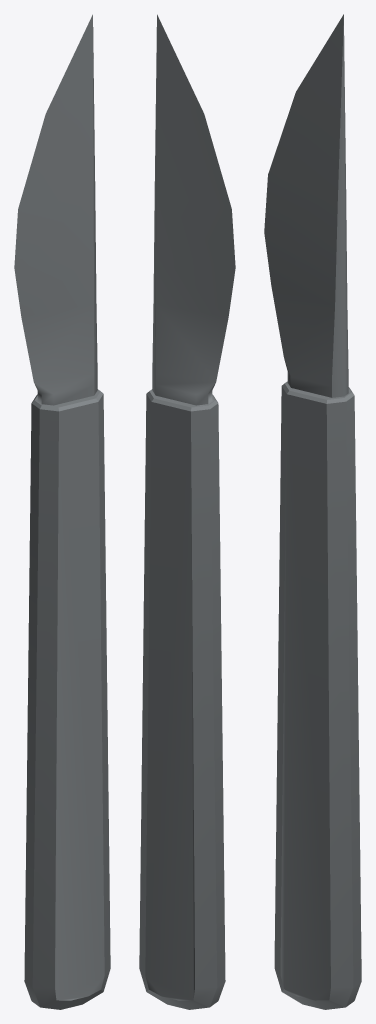
The model's file is PRP_NURSE_TOOL_00.FBX.
3 views of the same model, side by side, from view 1: azimuth 30°, elevation 25°; view 2: azimuth 150°, elevation 25°; view 3: azimuth 330°, elevation 25° (orthographic).
Parts seen in each view (by area): view 1: PRP_NURSE_TOOL_00; view 2: PRP_NURSE_TOOL_00; view 3: PRP_NURSE_TOOL_00.
Boxes of the visible parts, x1,y1,x2,y2 form: PRP_NURSE_TOOL_00: [14, 14, 110, 1009]; PRP_NURSE_TOOL_00: [139, 14, 235, 1009]; PRP_NURSE_TOOL_00: [264, 14, 361, 1009].
Size of the model in its own units: 1.65 by 16.83 by 0.7603.
